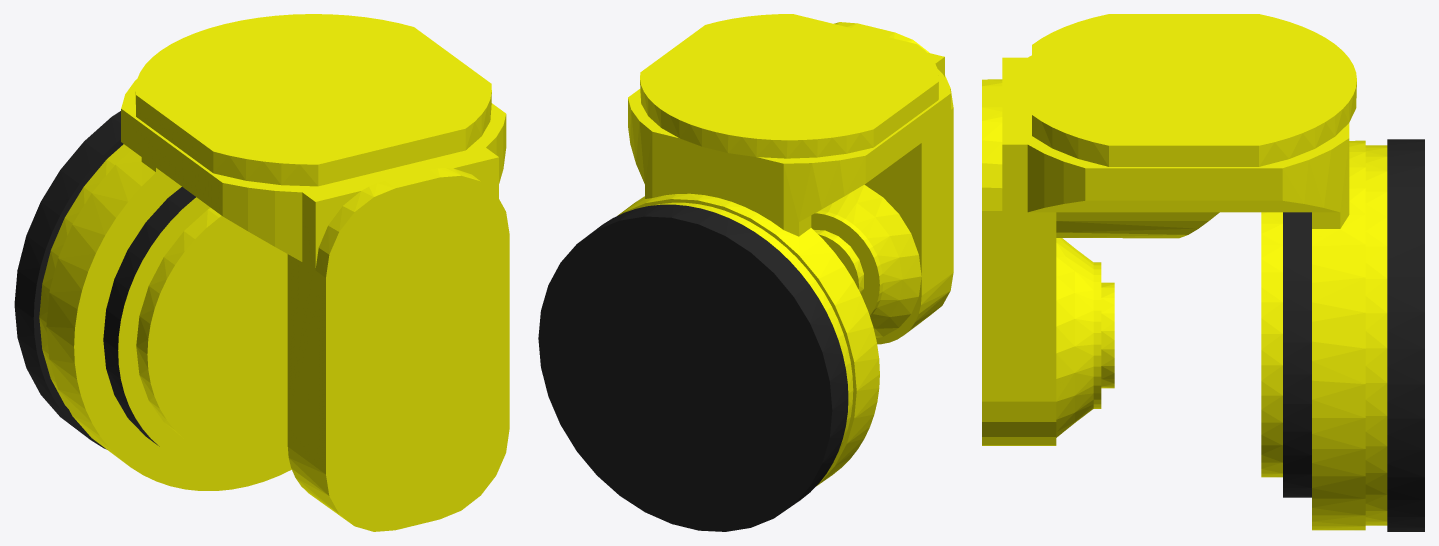
3 views of the same model, side by side, from view 1: azimuth 30°, elevation 25°; view 2: azimuth 150°, elevation 25°; view 3: azimuth 270°, elevation 25° (orthographic). The views are drawn at different scales.
Visible parts, largest first — view 1: node; view 2: node; view 3: node.
Boxes of the visible parts, x1,y1,x2,y2 form: node: (14,14,509,531); node: (538,14,953,531); node: (982,14,1424,531).
Bounding box in the file's own units: 252 × 307 × 284.
